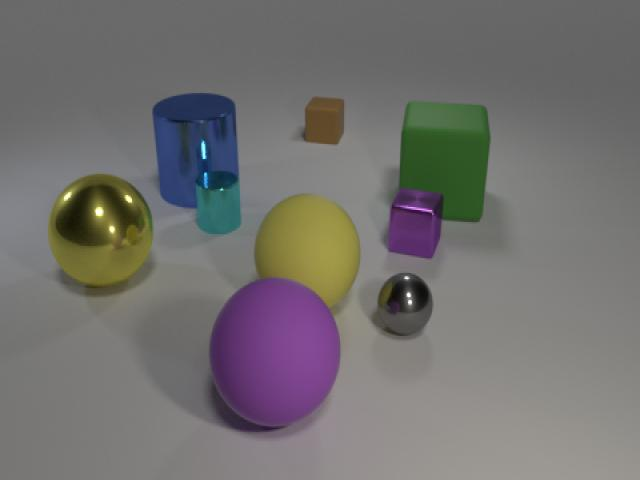cylinder: (148, 85, 249, 214), (189, 168, 247, 238)
round ball: (204, 272, 346, 434), (42, 167, 157, 294), (251, 189, 362, 309), (371, 268, 439, 342)
